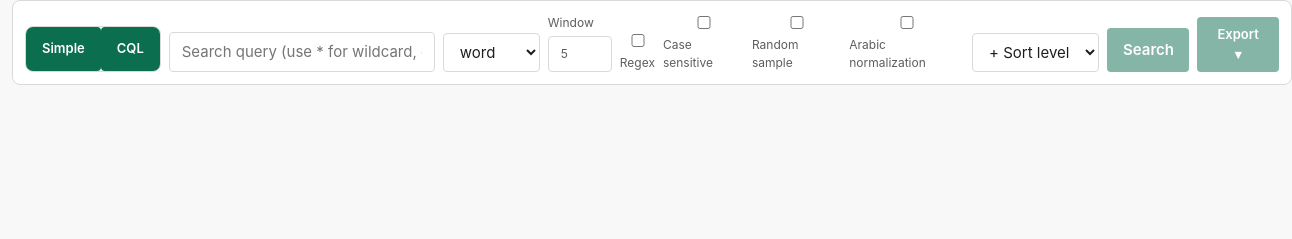
Test: Student gating › 403 from the CQL endpoint hides the toggle, falls back to Simple, shows the notice
Click the button with class "mode-toggle-btn" showing "CQL".
click(130, 49)  # box left=101, top=27, right=160, bottom=71
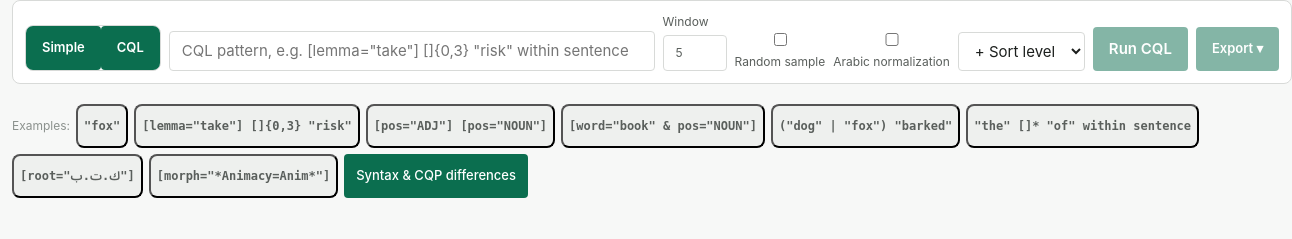
Replace the text in the field with class "search-input" with "\"anything\"" at x=412, y=51, box left=169, top=30, right=655, bottom=71
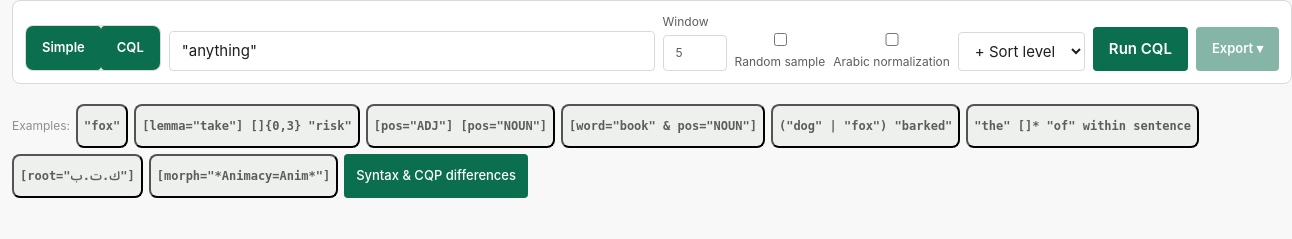
Click the button "Run CQL".
click(1140, 49)  # box left=1093, top=27, right=1188, bottom=71
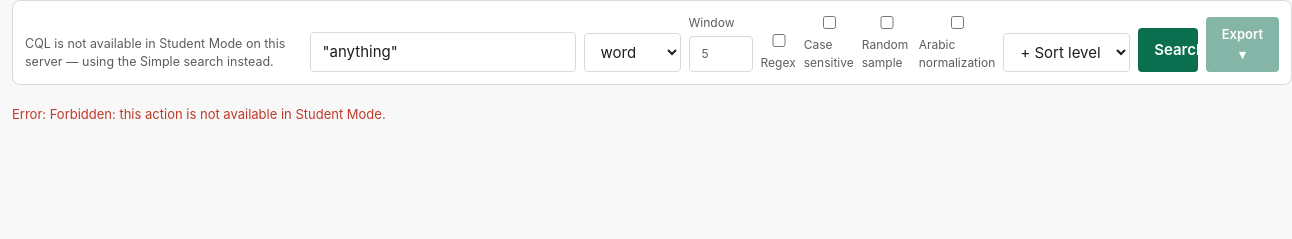
Expected: the element with class "mode-toggle" is gone
Expected: the text "not available in Student Mode" is shown, left=25, top=36, right=285, bottom=69
and a Simple search still works (server export path)
Replace the text in the field with class "search-input" with "fox" at x=442, y=52, box left=310, top=32, right=576, bottom=72
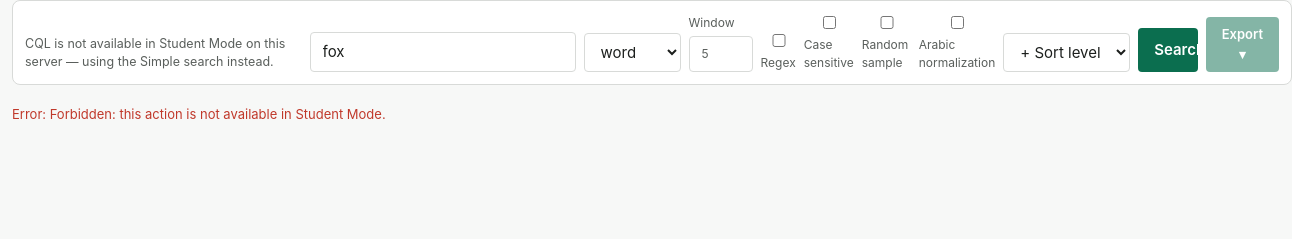
Click the button "Search".
click(1168, 50)  # box left=1138, top=28, right=1198, bottom=72
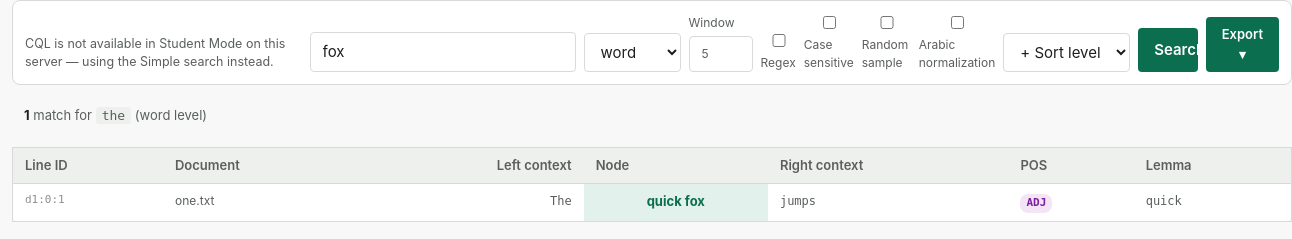
Expected: the table with class "kwic-table" is shown, left=12, top=147, right=1291, bottom=222
